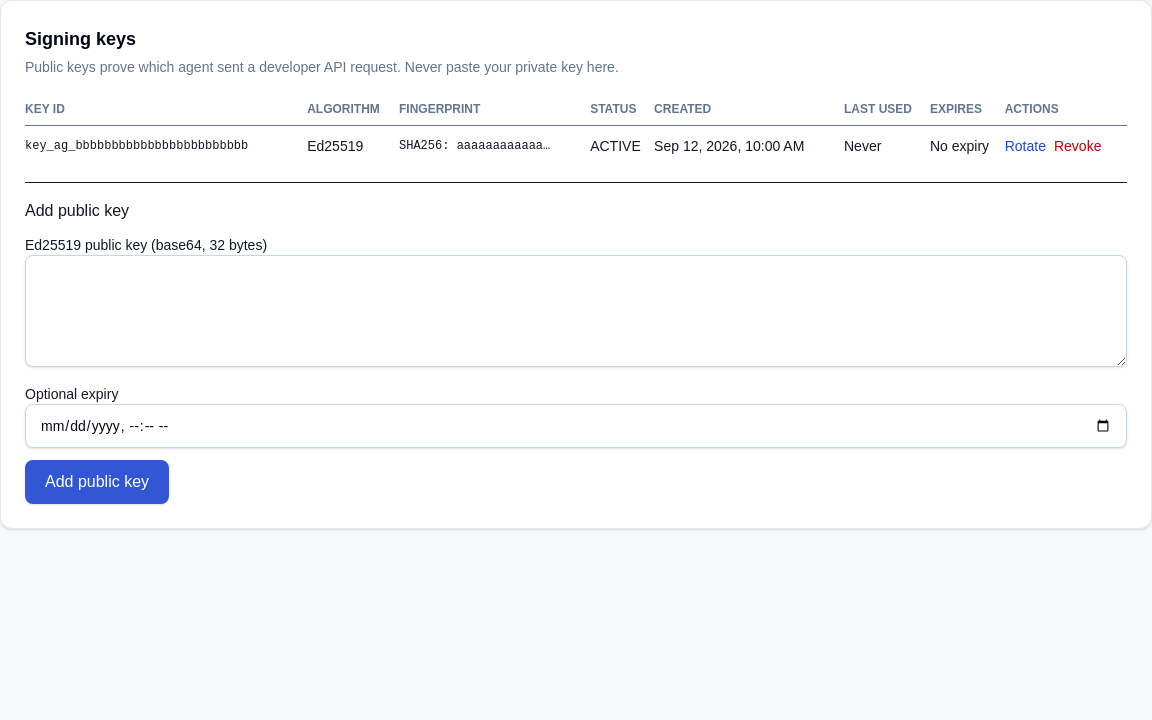
Test: signing keys show public metadata and reject invalid public key input
Expected: the text "SHA256: aaaaaaaaaaaa…" is shown, [399,126,590,166]
Expected: the text "Never paste your private key here" is shown, [25,59,619,75]
Type "not-a-key" into the text box labelled "Ed25519 public key (base64, 32 bytes)" at [576, 311], box [25,255,1127,367]
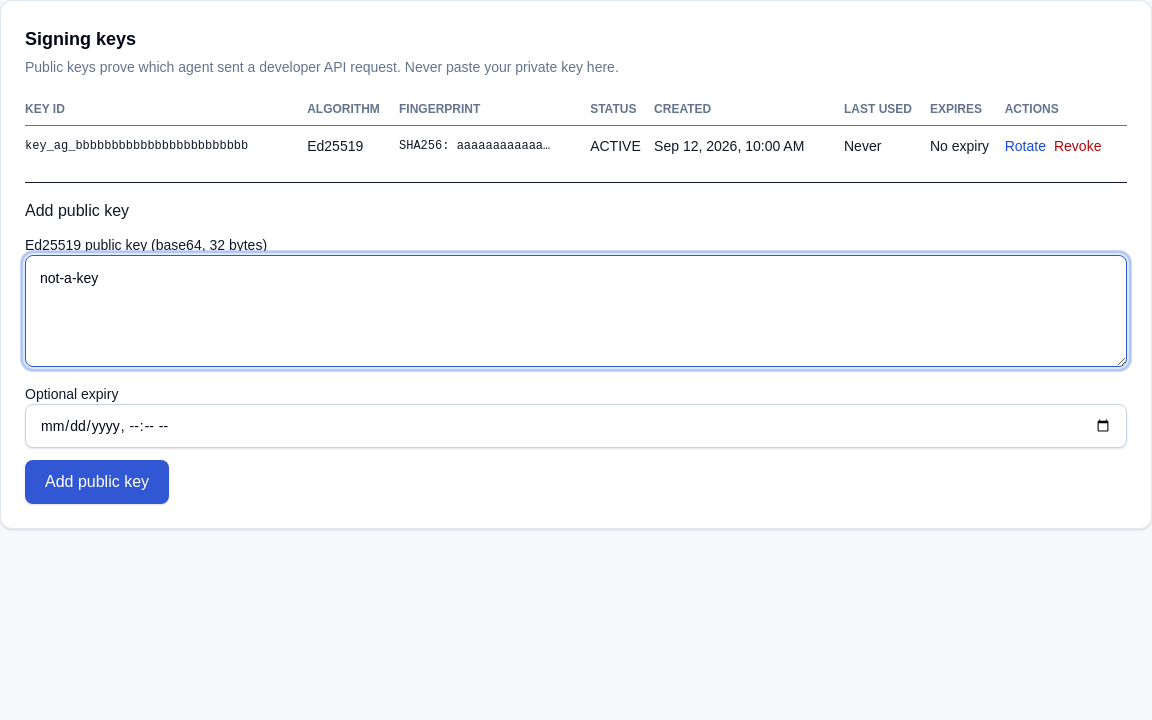
Click the button "Add public key" at [97, 482], box [25,460,169,504]
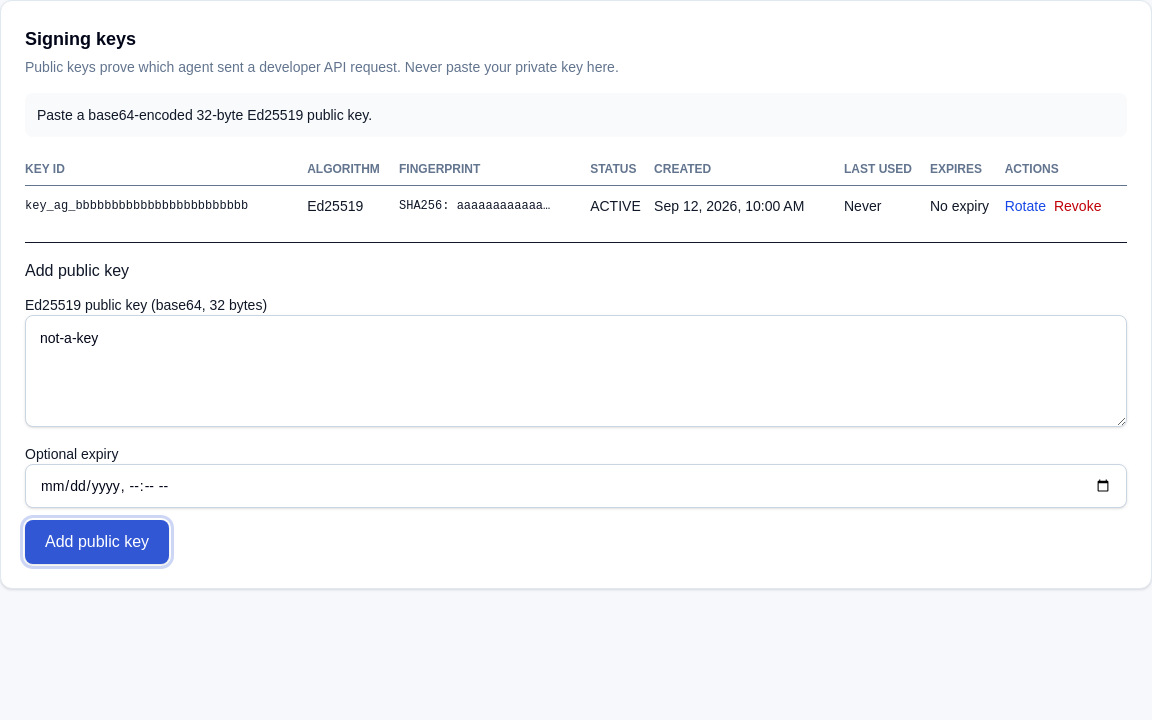
Now the message shows "base64-encoded 32-byte", box [37,107,372,123]
